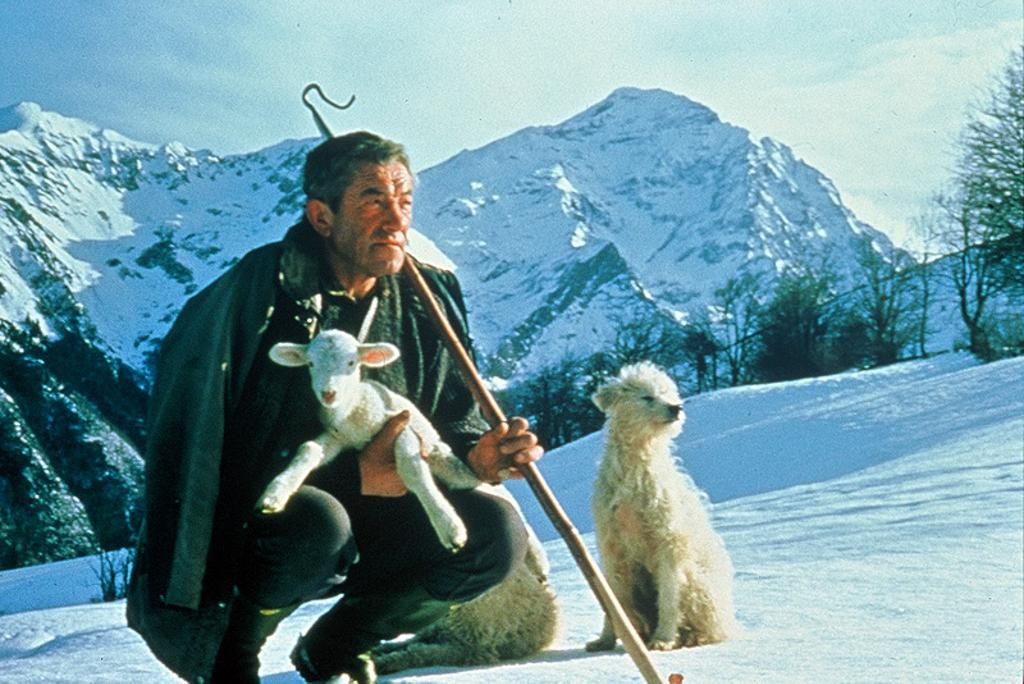face: (334, 160, 414, 278)
